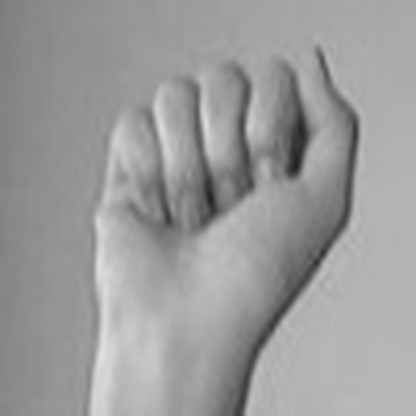a: (82, 26, 378, 322)
